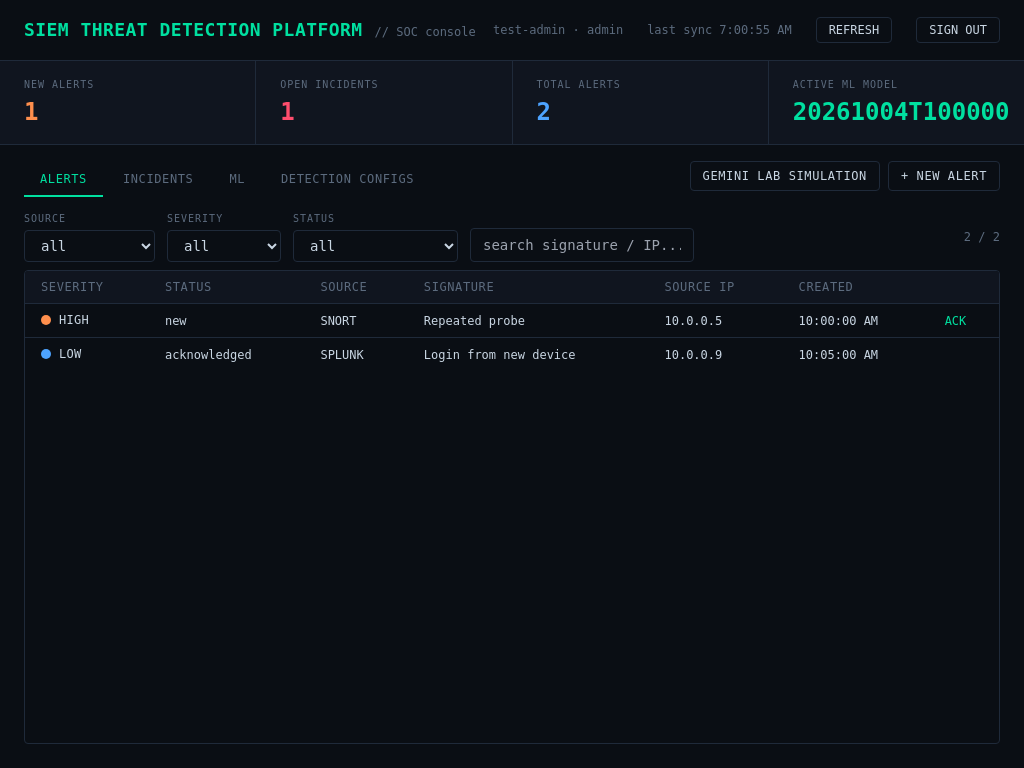
Test: App › switches to the Incidents tab and shows seeded incidents
Expected: the text "Repeated probe" is shown, [408,304,648,338]
Click the button "incidents".
click(158, 180)  # box [107,163,209,197]
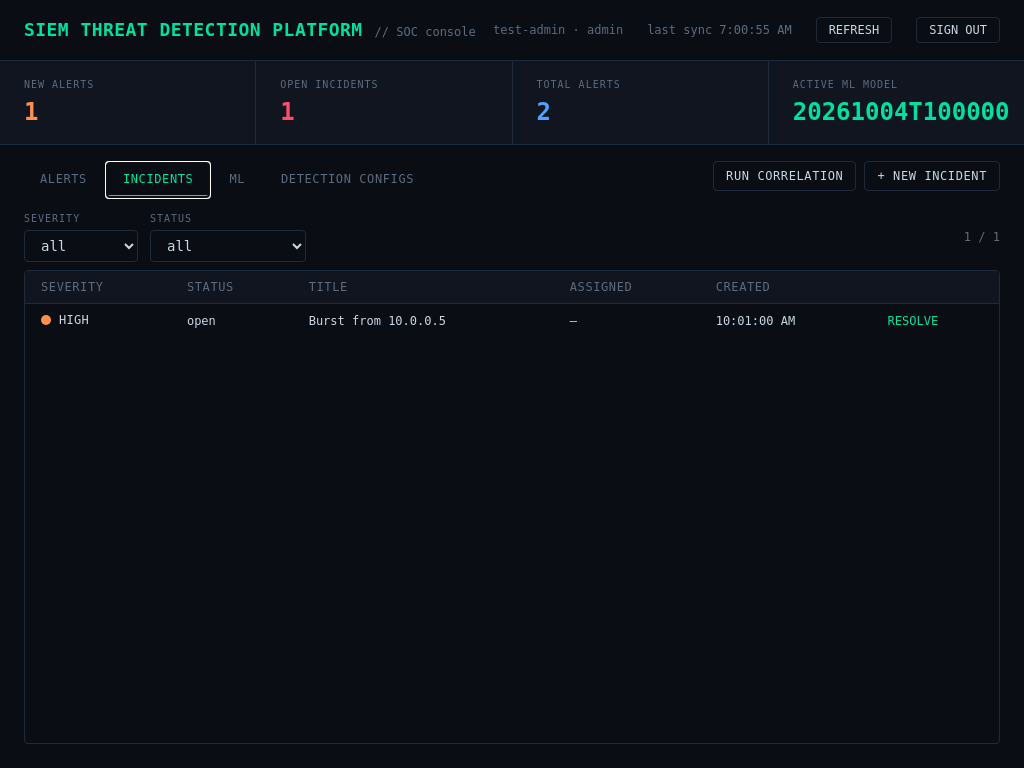
Result: the text "Burst from 10.0.0.5" is shown at [293,304,554,337]
